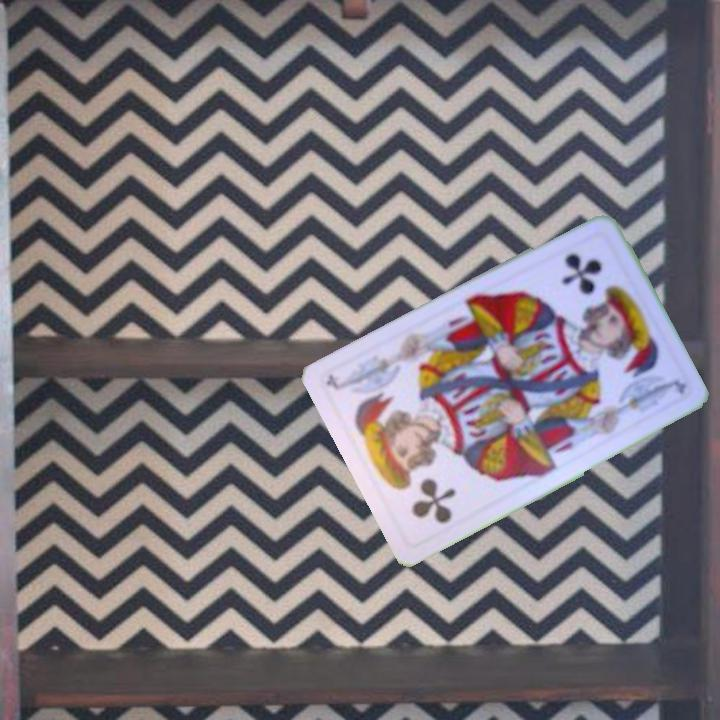c_j.png: (363, 422, 484, 548), (528, 228, 648, 355)
